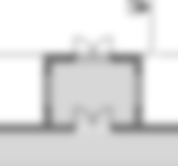double door: (72, 36, 113, 58), (72, 106, 114, 126)
window: (42, 70, 54, 110), (134, 70, 143, 110)
